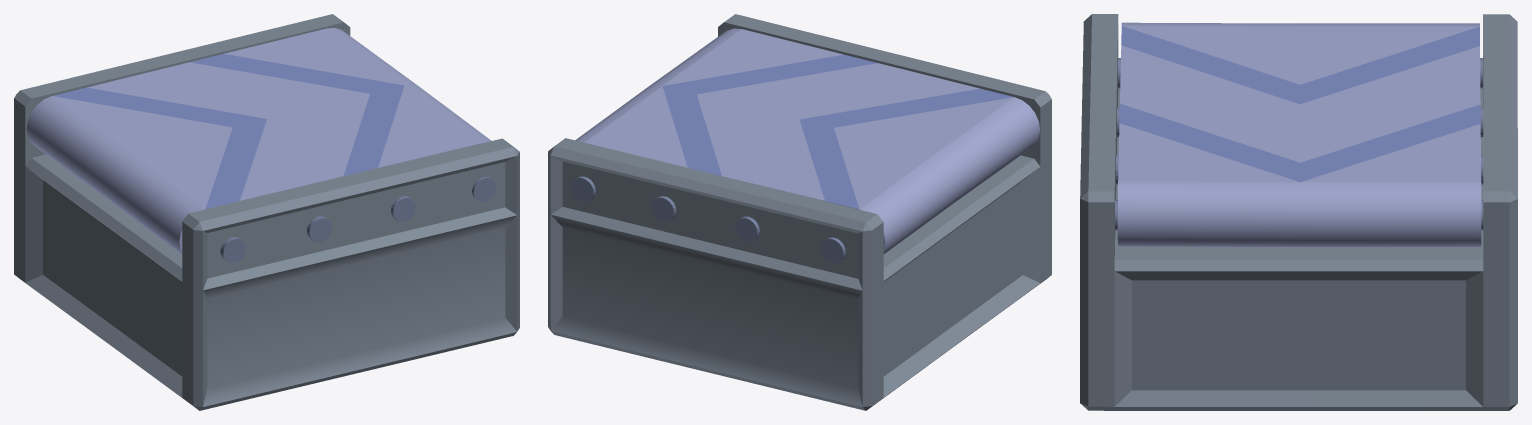
The model's file is ベルトコンベアー.fbx.
3 renders of one model, left to right at view 1: azimuth 30°, elevation 25°; view 2: azimuth 150°, elevation 25°; view 3: azimuth 270°, elevation 25°, orthographic. The views are drawn at different scales.
Visible parts, largest first — view 1: pasted__pCylinder2, pCylinder1; view 2: pasted__pCylinder2, pCylinder1; view 3: pasted__pCylinder2, pCylinder1.
Part boxes in pixels (x1,y1,x2,y2): pasted__pCylinder2: (14, 14, 519, 410); pCylinder1: (26, 28, 491, 254); pasted__pCylinder2: (548, 14, 1051, 410); pCylinder1: (575, 28, 1039, 254); pasted__pCylinder2: (1080, 14, 1517, 410); pCylinder1: (1117, 22, 1481, 247).
Size of the model in its own units: 3.14 by 1.73 by 3.13.
